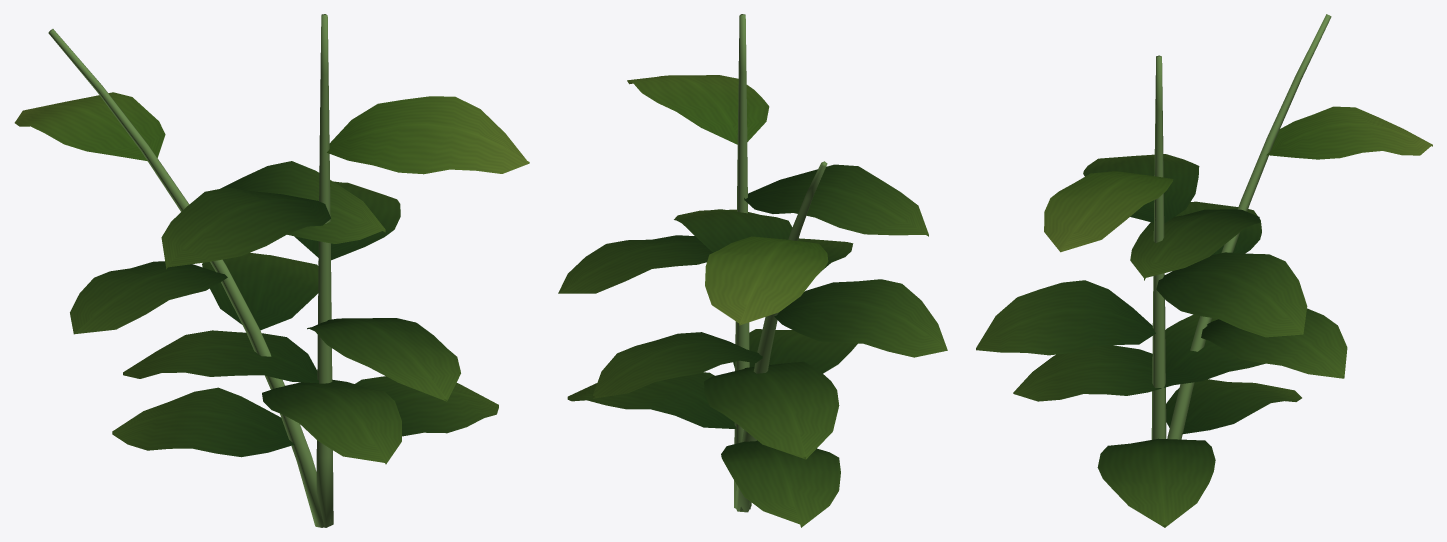
The model's file is bellflower-05-lod.glb.
The picture shows the model from 3 angles, left to right: view 1: azimuth 30°, elevation 25°; view 2: azimuth 150°, elevation 25°; view 3: azimuth 270°, elevation 25°; orthographic projection. The views are drawn at different scales.
Visible parts, largest first — view 1: bellflower_stage_05_leaf_veins.009, bellflower_stage_05_young_leaf.009, bellflower_stage_05_stem_fibres.009; view 2: bellflower_stage_05_leaf_veins.009, bellflower_stage_05_young_leaf.009, bellflower_stage_05_stem_fibres.009; view 3: bellflower_stage_05_leaf_veins.009, bellflower_stage_05_young_leaf.009, bellflower_stage_05_stem_fibres.009.
Boxes of the visible parts, x1=… form: bellflower_stage_05_leaf_veins.009: x1=70, y1=161, x2=498, y2=464; bellflower_stage_05_young_leaf.009: x1=14, y1=92, x2=529, y2=174; bellflower_stage_05_stem_fibres.009: x1=48, y1=14, x2=333, y2=527; bellflower_stage_05_leaf_veins.009: x1=558, y1=164, x2=947, y2=527; bellflower_stage_05_young_leaf.009: x1=627, y1=75, x2=828, y2=325; bellflower_stage_05_stem_fibres.009: x1=734, y1=14, x2=827, y2=512; bellflower_stage_05_leaf_veins.009: x1=976, y1=154, x2=1347, y2=527; bellflower_stage_05_young_leaf.009: x1=1044, y1=106, x2=1432, y2=252; bellflower_stage_05_stem_fibres.009: x1=1151, y1=14, x2=1331, y2=439.
Size of the model in its own units: 0.2024 by 0.2416 by 0.2182.
3 materials, 2 textured.
